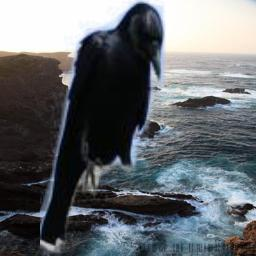Crow: (40, 0, 166, 256)
